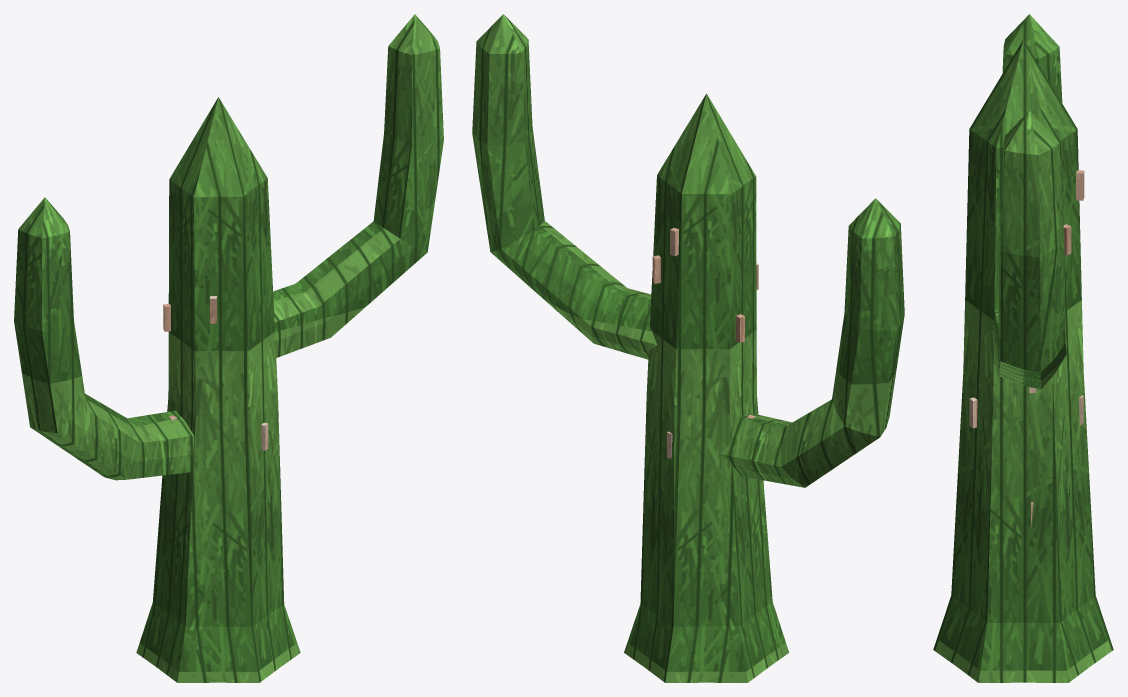
File: saguaro1.glb
The picture shows the model from 3 angles, left to right: view 1: azimuth 30°, elevation 25°; view 2: azimuth 150°, elevation 25°; view 3: azimuth 270°, elevation 25°; orthographic projection. The views are drawn at different scales.
Parts seen in each view (by area): view 1: Saguaro_1_cuerpo; view 2: Saguaro_1_cuerpo; view 3: Saguaro_1_cuerpo.
Part boxes in pixels (bbox=[...]): Saguaro_1_cuerpo: bbox=[14, 14, 443, 682]; Saguaro_1_cuerpo: bbox=[472, 14, 904, 682]; Saguaro_1_cuerpo: bbox=[933, 14, 1113, 682].
Size of the model in its own units: 8.9 by 11.85 by 3.
2 materials, 2 textured.
